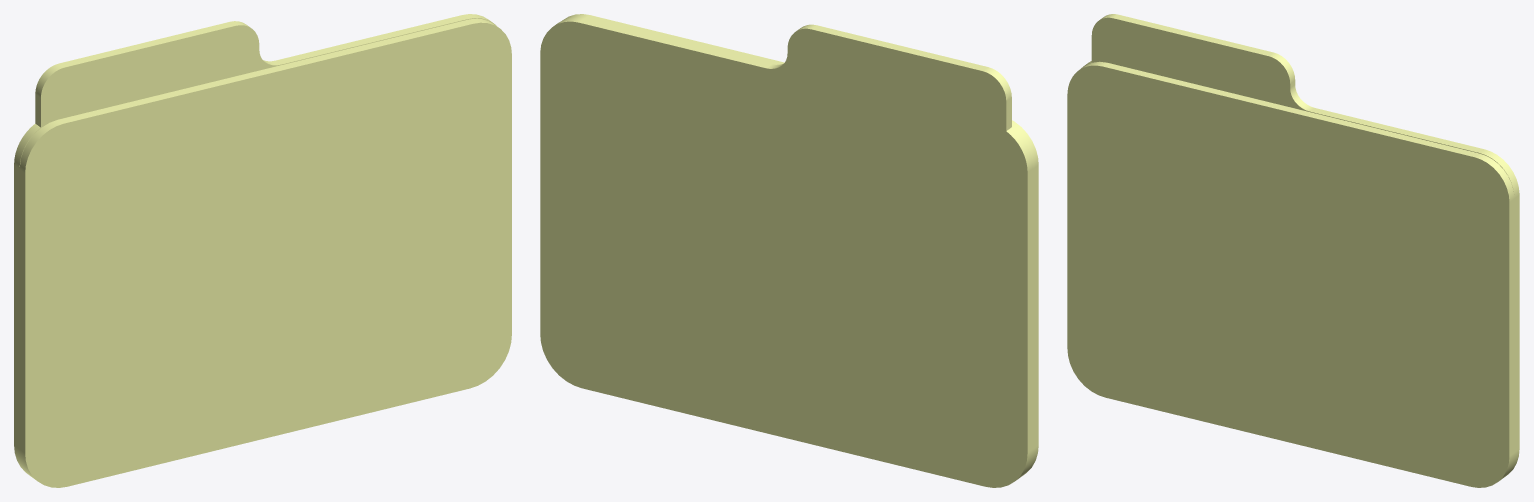
Rendered from folder.glb.
3 views of the same model, side by side, from view 1: azimuth 30°, elevation 25°; view 2: azimuth 150°, elevation 25°; view 3: azimuth 330°, elevation 25° (orthographic). The views are drawn at different scales.
Visible parts, largest first — view 1: Body1; view 2: Body1; view 3: Body1.
Part boxes in pixels (x1=…): Body1: x1=14, y1=14, x2=511, y2=487; Body1: x1=540, y1=14, x2=1038, y2=487; Body1: x1=1067, y1=14, x2=1519, y2=487.
Bounding box in the file's own units: 5.85 × 4.76 × 0.2319.
